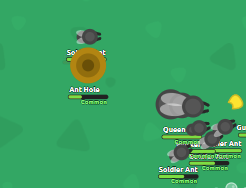Ant Hole: (70, 47, 107, 84)
Queen Ant: (155, 88, 210, 120)
Soldier Ant: (167, 143, 193, 164), (212, 118, 238, 137), (75, 28, 102, 46), (199, 130, 223, 150)
Worker Ant: (186, 120, 211, 136)
